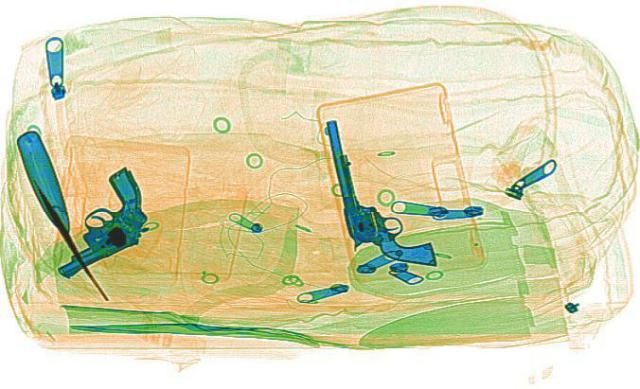Gun: (0, 165, 196, 270), (319, 115, 437, 268)
Knife: (0, 129, 124, 302)
